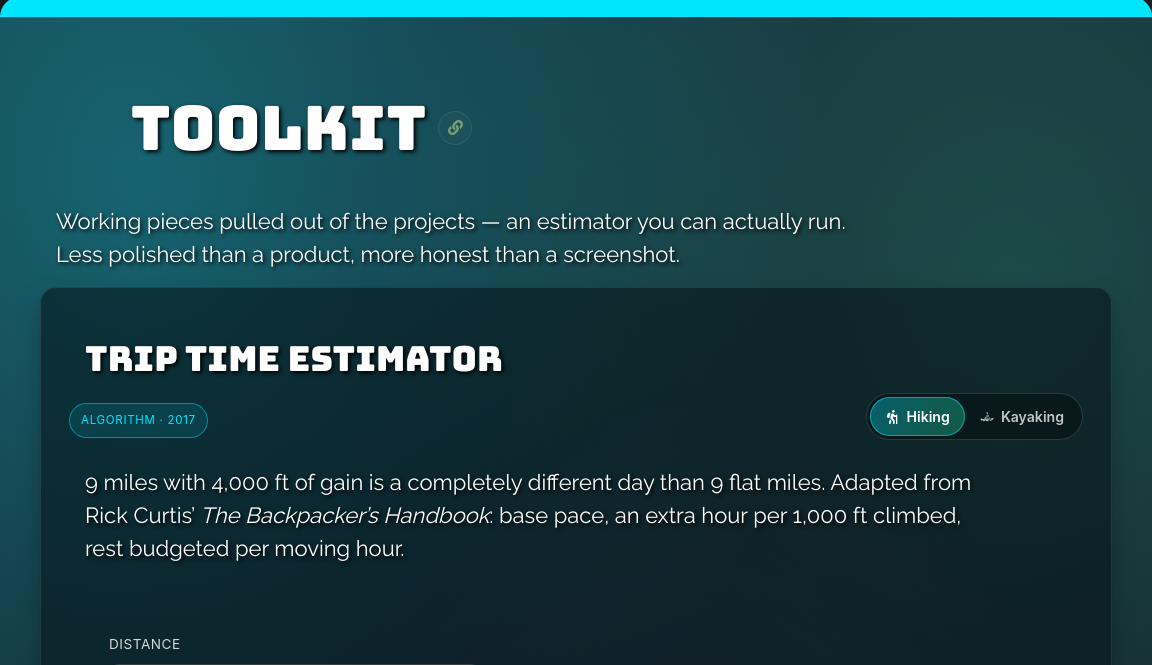
Test: Toolkit kayaking mode › warns instead of inventing a time when the water outruns the paddler
Click the button with class "toolkit-mode-btn" showing "Kayaking": [1022, 417] box [965,397,1079,436]
(page scrolled)
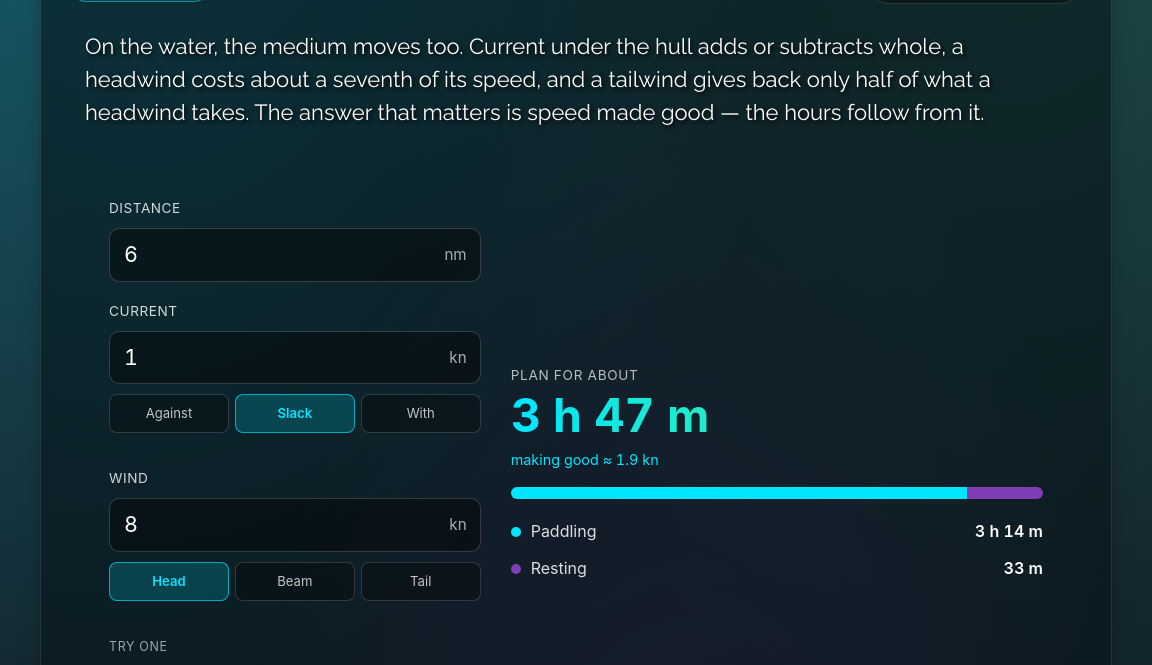
Replace the text in the number field with id "kayak-current" with "4": [295, 357] box [109,331,481,384]
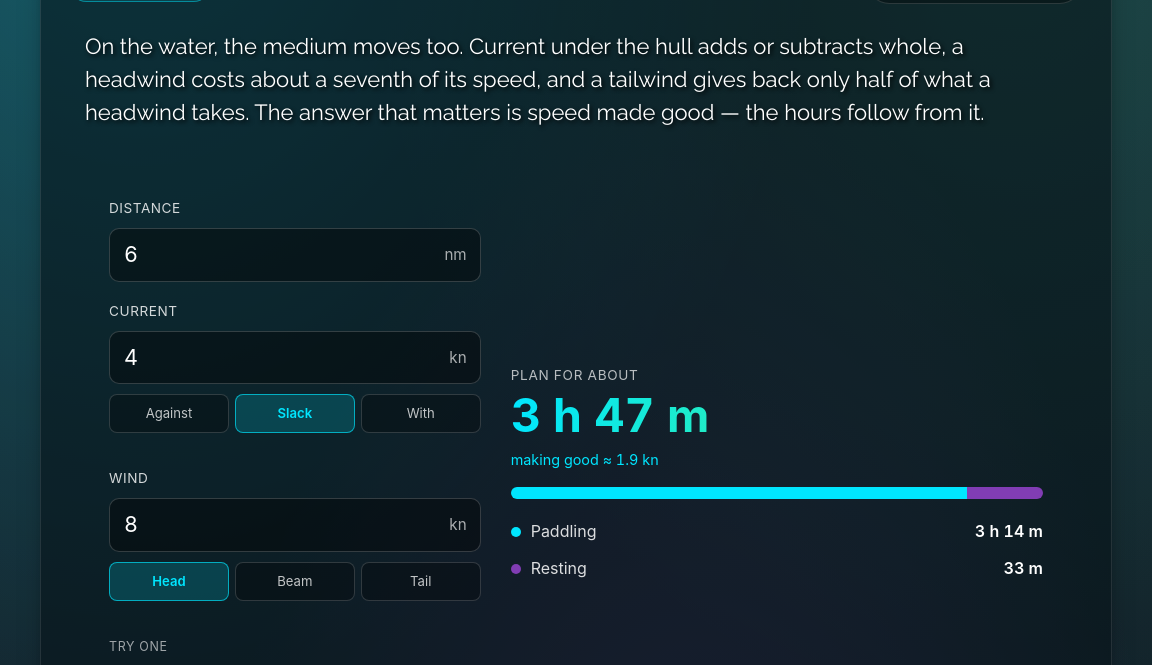
Click the button with class "toolkit-seg-btn" showing "Against": [169, 414] box [109,394,229,433]
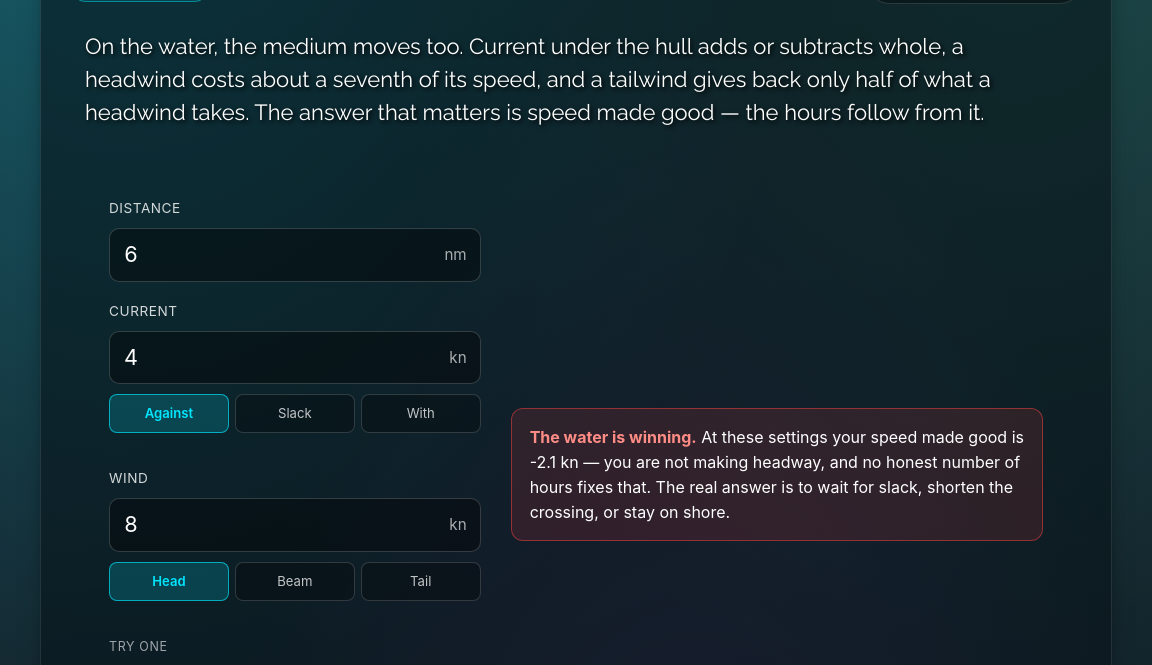
Expected: the message with class "toolkit-warning" is shown, [511,408,1043,541]
Expected: the text with test id "hiking-total" is gone
